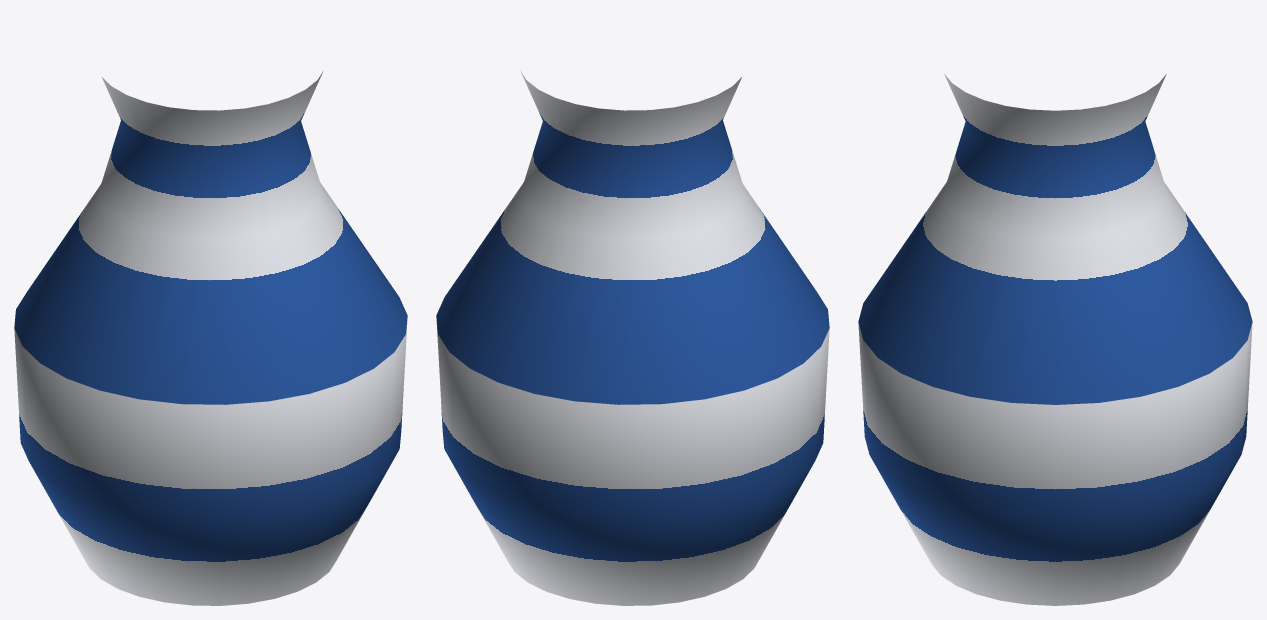
Rendered from vase.glb.
3 views of the same model, side by side, from view 1: azimuth 30°, elevation 25°; view 2: azimuth 150°, elevation 25°; view 3: azimuth 270°, elevation 25° (orthographic).
Visible parts, largest first — view 1: Vase; view 2: Vase; view 3: Vase.
Part boxes in pixels (bbox=[...]): Vase: bbox=[14, 70, 407, 605]; Vase: bbox=[436, 70, 829, 605]; Vase: bbox=[858, 74, 1252, 605].
Size of the model in its own units: 1.24 by 1.7 by 1.24.
Materials: 1 (1 with a texture image).
